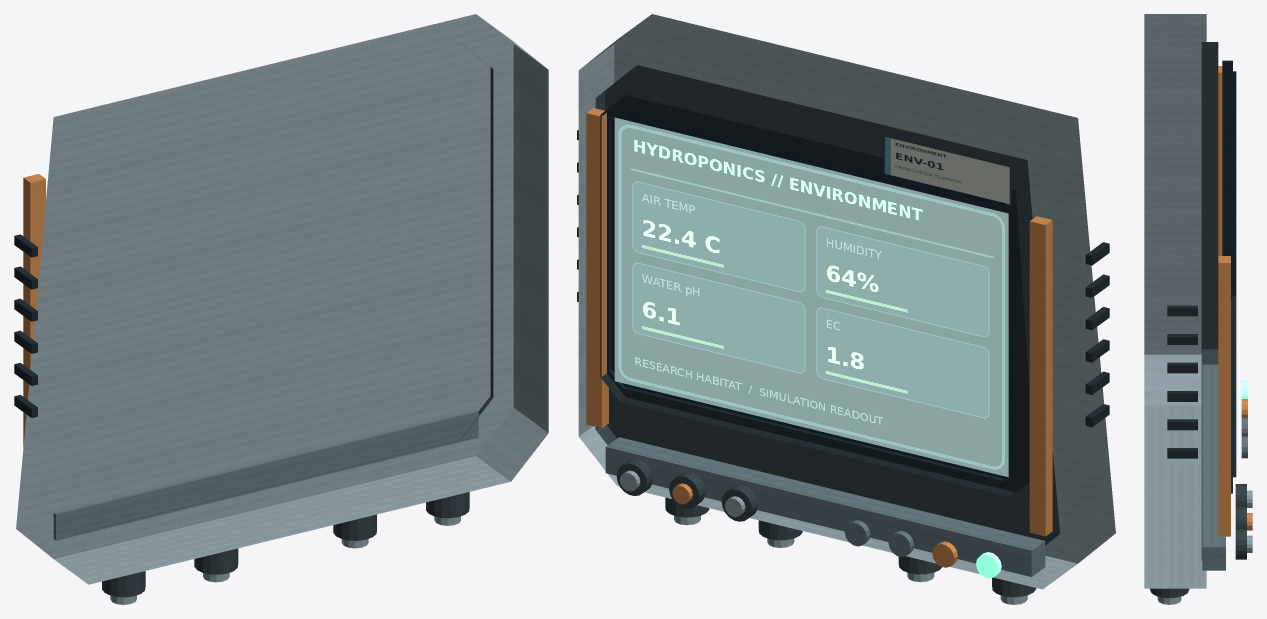
The model's file is hydroponics_sensor_panel.glb.
3 views of the same model, side by side, from view 1: azimuth 30°, elevation 25°; view 2: azimuth 150°, elevation 25°; view 3: azimuth 270°, elevation 25° (orthographic). The views are drawn at different scales.
Parts seen in each view (by area): view 1: static__alloy, static__trim, Sensor_Connectors__graphite, static__amber, static__carbon, static__graphite, Sensor_Connectors__alloy; view 2: Screen_UI__sensor_ui, static__alloy, static__graphite, Screen_UI__carbon, static__trim, static__amber, Screen_UI__screen, static__label_ENV-01, Sensor_Connectors__graphite, static__carbon, Selector_Buttons__graphite, Alarm_Lights__trim (+1 smaller); view 3: static__alloy, static__graphite, static__amber, static__trim, Screen_UI__carbon, static__carbon, Screen_UI__screen, Selector_Buttons__graphite, Sensor_Connectors__graphite, Alarm_Lights__trim, Selector_Buttons__alloy.
Part boxes in pixels (left/top/right/bottom): static__alloy: left=16, top=14, right=548, bottom=584; static__trim: left=53, top=410, right=478, bottom=540; Sensor_Connectors__graphite: left=102, top=492, right=469, bottom=597; static__amber: left=23, top=174, right=45, bottom=446; static__carbon: left=14, top=234, right=37, bottom=417; static__graphite: left=74, top=44, right=493, bottom=533; Sensor_Connectors__alloy: left=110, top=516, right=460, bottom=604; Screen_UI__sensor_ui: left=614, top=117, right=1008, bottom=477; static__alloy: left=578, top=14, right=1115, bottom=589; static__graphite: left=595, top=65, right=1059, bottom=545; Screen_UI__carbon: left=600, top=95, right=1029, bottom=496; static__trim: left=605, top=437, right=1045, bottom=576; static__amber: left=586, top=108, right=1052, bottom=536; Screen_UI__screen: left=609, top=110, right=1018, bottom=480; static__label_ENV-01: left=883, top=135, right=1011, bottom=205; Sensor_Connectors__graphite: left=665, top=497, right=1036, bottom=597; static__carbon: left=577, top=130, right=1109, bottom=427; Selector_Buttons__graphite: left=616, top=459, right=758, bottom=521; Alarm_Lights__trim: left=844, top=520, right=914, bottom=556; static__alloy: left=1144, top=14, right=1206, bottom=588; static__graphite: left=1201, top=42, right=1218, bottom=560; static__amber: left=1218, top=66, right=1230, bottom=536; static__trim: left=1202, top=364, right=1225, bottom=570; Screen_UI__carbon: left=1222, top=60, right=1232, bottom=493; static__carbon: left=1167, top=305, right=1197, bottom=458; Screen_UI__screen: left=1232, top=71, right=1236, bottom=477; Selector_Buttons__graphite: left=1235, top=484, right=1246, bottom=559; Sensor_Connectors__graphite: left=1150, top=588, right=1189, bottom=598; Alarm_Lights__trim: left=1241, top=417, right=1247, bottom=458; Selector_Buttons__alloy: left=1247, top=490, right=1252, bottom=552.
Bounding box in the file's own units: 0.883 × 0.791 × 0.1825.
9 materials, 9 textured.
